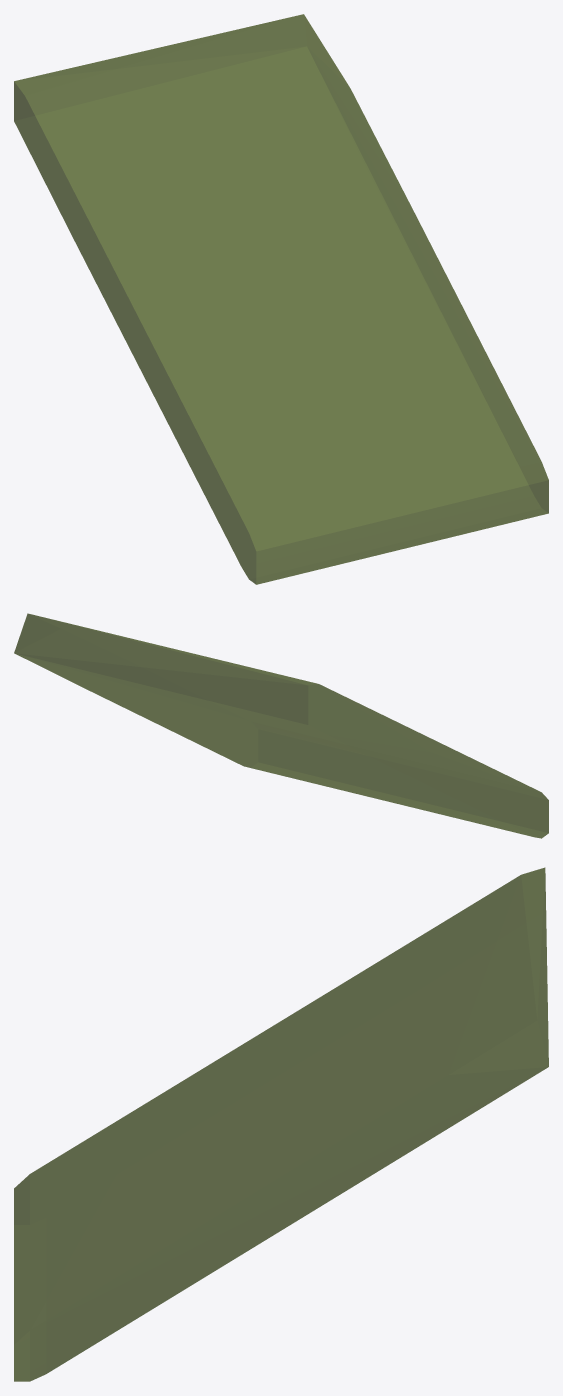
3 views of the same model, one above another, from view 1: azimuth 30°, elevation 25°; view 2: azimuth 150°, elevation 25°; view 3: azimuth 270°, elevation 25° (orthographic). The views are drawn at different scales.
Visible parts, largest first — view 1: Shape_IndexedFaceSet.020_Shape_IndexedFaceSet.9481; view 2: Shape_IndexedFaceSet.020_Shape_IndexedFaceSet.9481; view 3: Shape_IndexedFaceSet.020_Shape_IndexedFaceSet.9481.
Boxes of the visible parts, x1,y1,x2,y2 form: Shape_IndexedFaceSet.020_Shape_IndexedFaceSet.9481: (14, 14, 548, 584); Shape_IndexedFaceSet.020_Shape_IndexedFaceSet.9481: (14, 613, 548, 838); Shape_IndexedFaceSet.020_Shape_IndexedFaceSet.9481: (14, 867, 548, 1381).
Bounding box in the file's own units: 0.1246 × 0.1318 × 0.1787.
